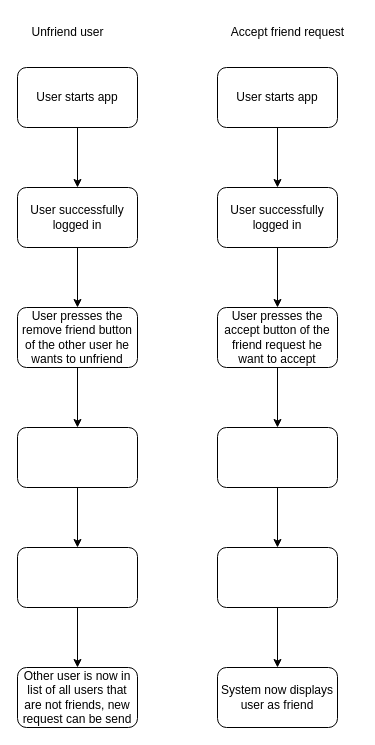
Image size: 375x745. Some labels were removed from this diagram. The box of each missing label's shape, as (x1, y1, x2, y2) in pixels:
System deletes friend relation: (16, 426, 138, 488)
System no longer displays the friend request: (216, 546, 338, 608)
System no longer displays user as friend: (16, 546, 138, 608)
System updates the friend request to accepted: (216, 426, 338, 488)
